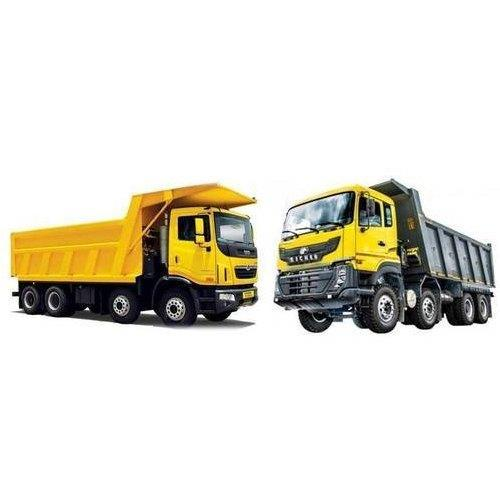truck: (10, 182, 257, 326), (274, 178, 495, 333)
